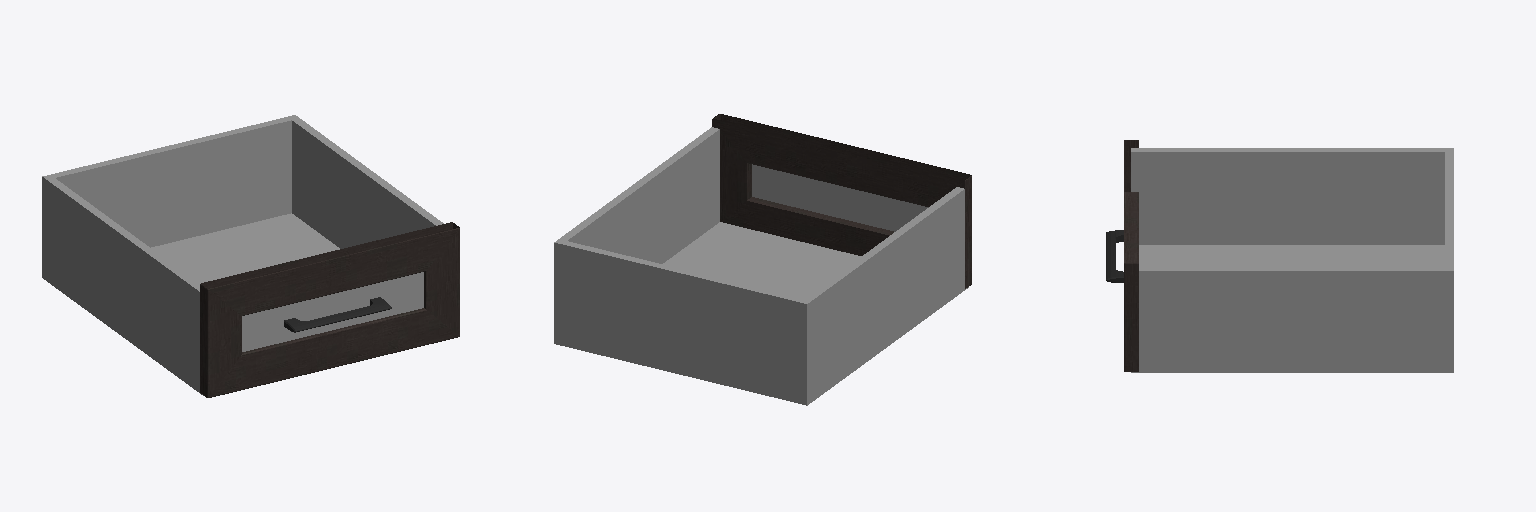
The picture shows the model from 3 angles: view 1: azimuth 30°, elevation 25°; view 2: azimuth 150°, elevation 25°; view 3: azimuth 270°, elevation 25°; orthographic projection.
Parts seen in each view (by area): view 1: Part5; view 2: Part5; view 3: Part5.
Boxes of the visible parts, <box> form: Part5: <box>42,115,459,397</box>; Part5: <box>554,114,971,405</box>; Part5: <box>1106,140,1453,372</box>.
Bounding box in the file's own units: 0.3887 × 0.1614 × 0.4638.
4 materials, 1 textured.